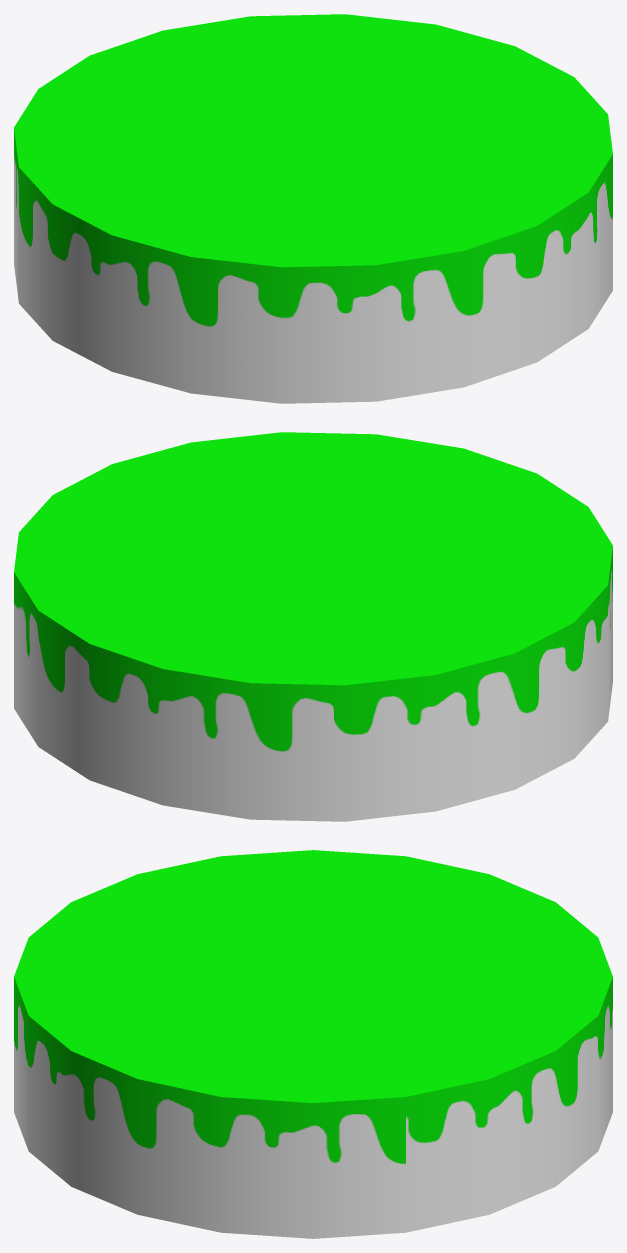
Rendered from GreenBig.fbx.
3 renders of one model, top to bottom at view 1: azimuth 30°, elevation 25°; view 2: azimuth 150°, elevation 25°; view 3: azimuth 270°, elevation 25°, orthographic.
Parts seen in each view (by area): view 1: GreenBig; view 2: GreenBig; view 3: GreenBig.
Part boxes in pixels (x1,y1,x2,y2): GreenBig: (14,14,612,403); GreenBig: (14,432,612,821); GreenBig: (14,850,612,1238).
Size of the model in its own units: 1000 by 250 by 1000.
